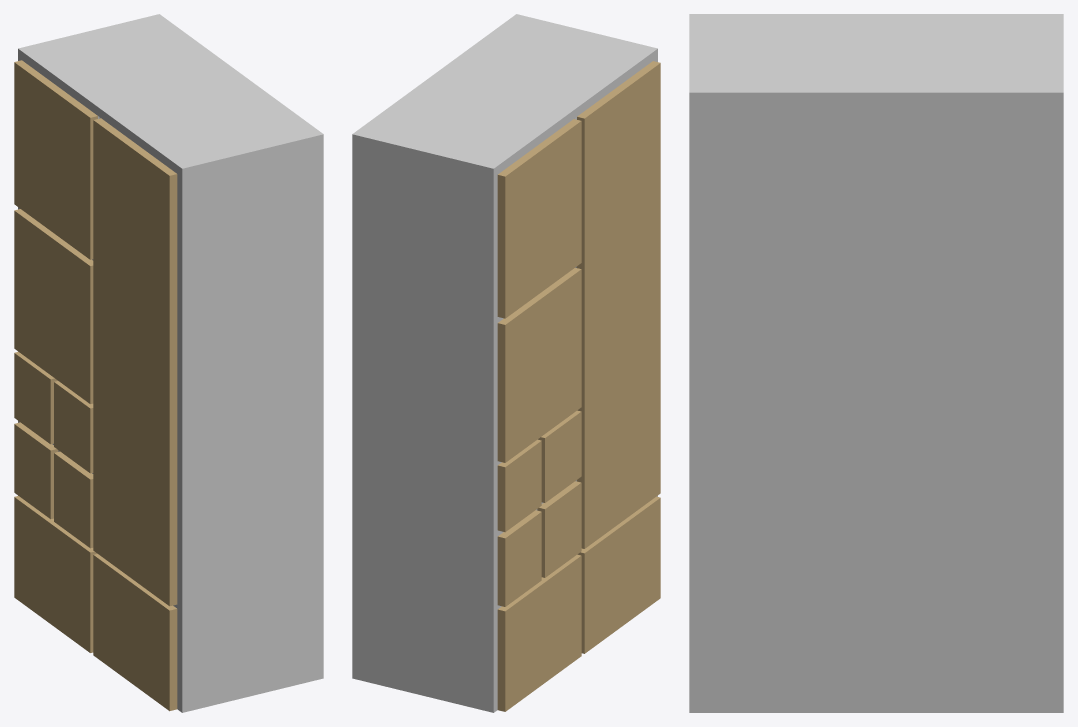
The picture shows the model from 3 angles, left to right: view 1: azimuth 30°, elevation 25°; view 2: azimuth 150°, elevation 25°; view 3: azimuth 270°, elevation 25°; orthographic projection. The views are drawn at different scales.
Visible parts, largest first — view 1: Mesh1_IKEA_Large_Wardrobe1_Model; view 2: Mesh1_IKEA_Large_Wardrobe1_Model; view 3: Mesh1_IKEA_Large_Wardrobe1_Model.
Part boxes in pixels (box(x1,y1,x2,y2)): Mesh1_IKEA_Large_Wardrobe1_Model: box(14, 14, 323, 712); Mesh1_IKEA_Large_Wardrobe1_Model: box(352, 14, 660, 712); Mesh1_IKEA_Large_Wardrobe1_Model: box(689, 14, 1063, 712).
Size of the model in its own units: 0.3729 by 1.3 by 0.7111.
